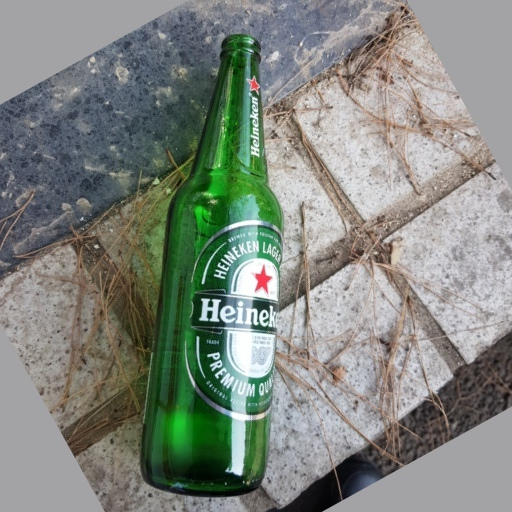Glass_1: (137, 34, 289, 502)
